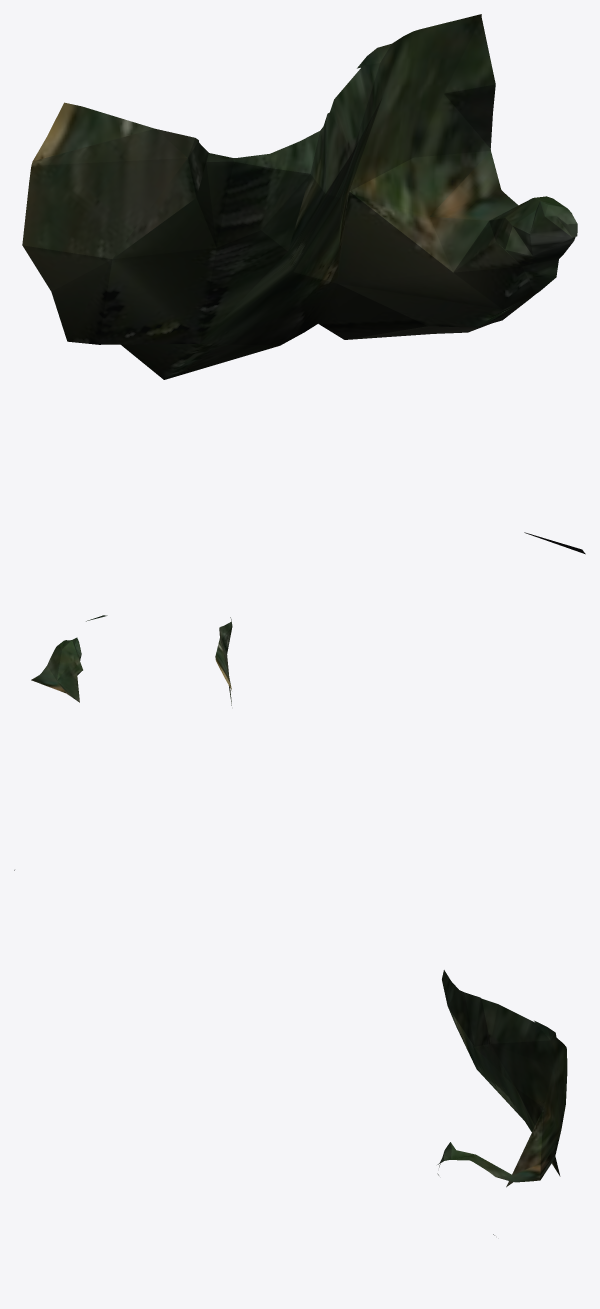
3 renders of one model, top to bottom at view 1: azimuth 30°, elevation 25°; view 2: azimuth 150°, elevation 25°; view 3: azimuth 270°, elevation 25°, orthographic. The views are drawn at different scales.
Size of the model in its own units: 0.8373 by 0.3625 by 0.8373.
Materials: 1 (1 with a texture image).
